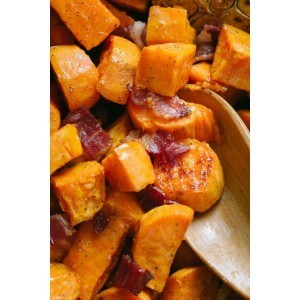sweet potato_brain food: (59, 86, 202, 248)
